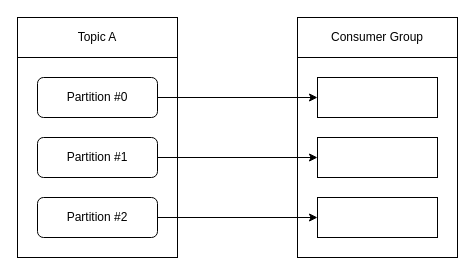
The diagram is 475 pixels wide and 275 high, and some of its shapes have lost their labels. Here are the shapes that lost their labels. From the top down, the centre of each, then its label:
At (x=377, y=97): "Consumer A instance #0".
At (x=377, y=157): "Consumer A instance #1".
At (x=377, y=217): "Consumer A instance #2".
